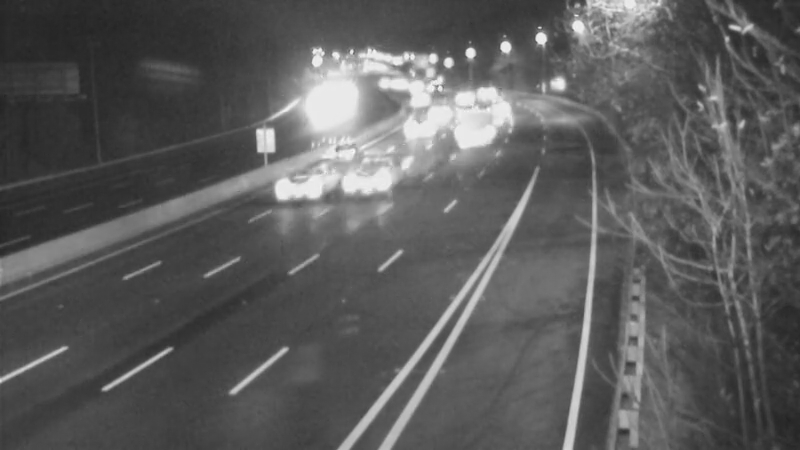vehicle: (331, 149, 411, 229), (251, 145, 331, 225), (391, 74, 441, 124), (466, 77, 516, 127), (385, 102, 435, 152), (445, 101, 495, 151), (313, 125, 363, 175)
